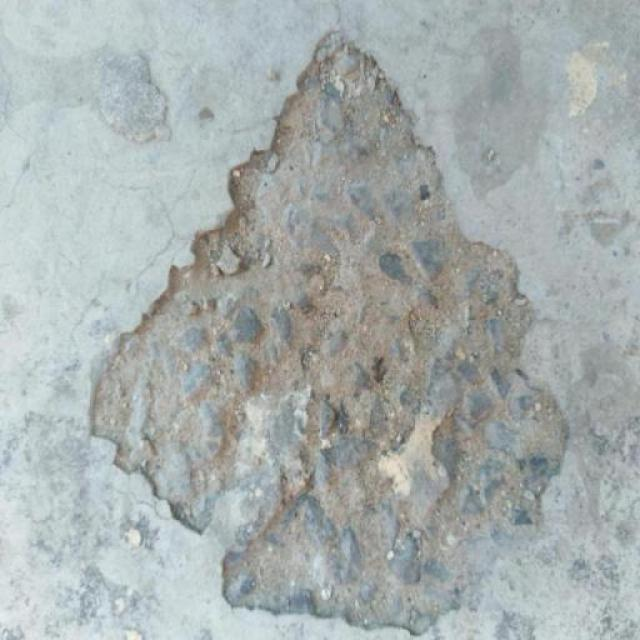D10: (89, 30, 570, 639)
